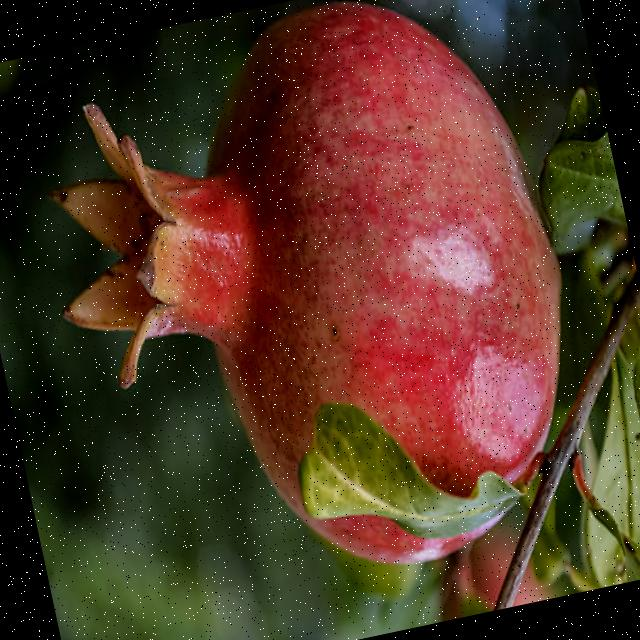Ripe: (10, 0, 619, 621)
